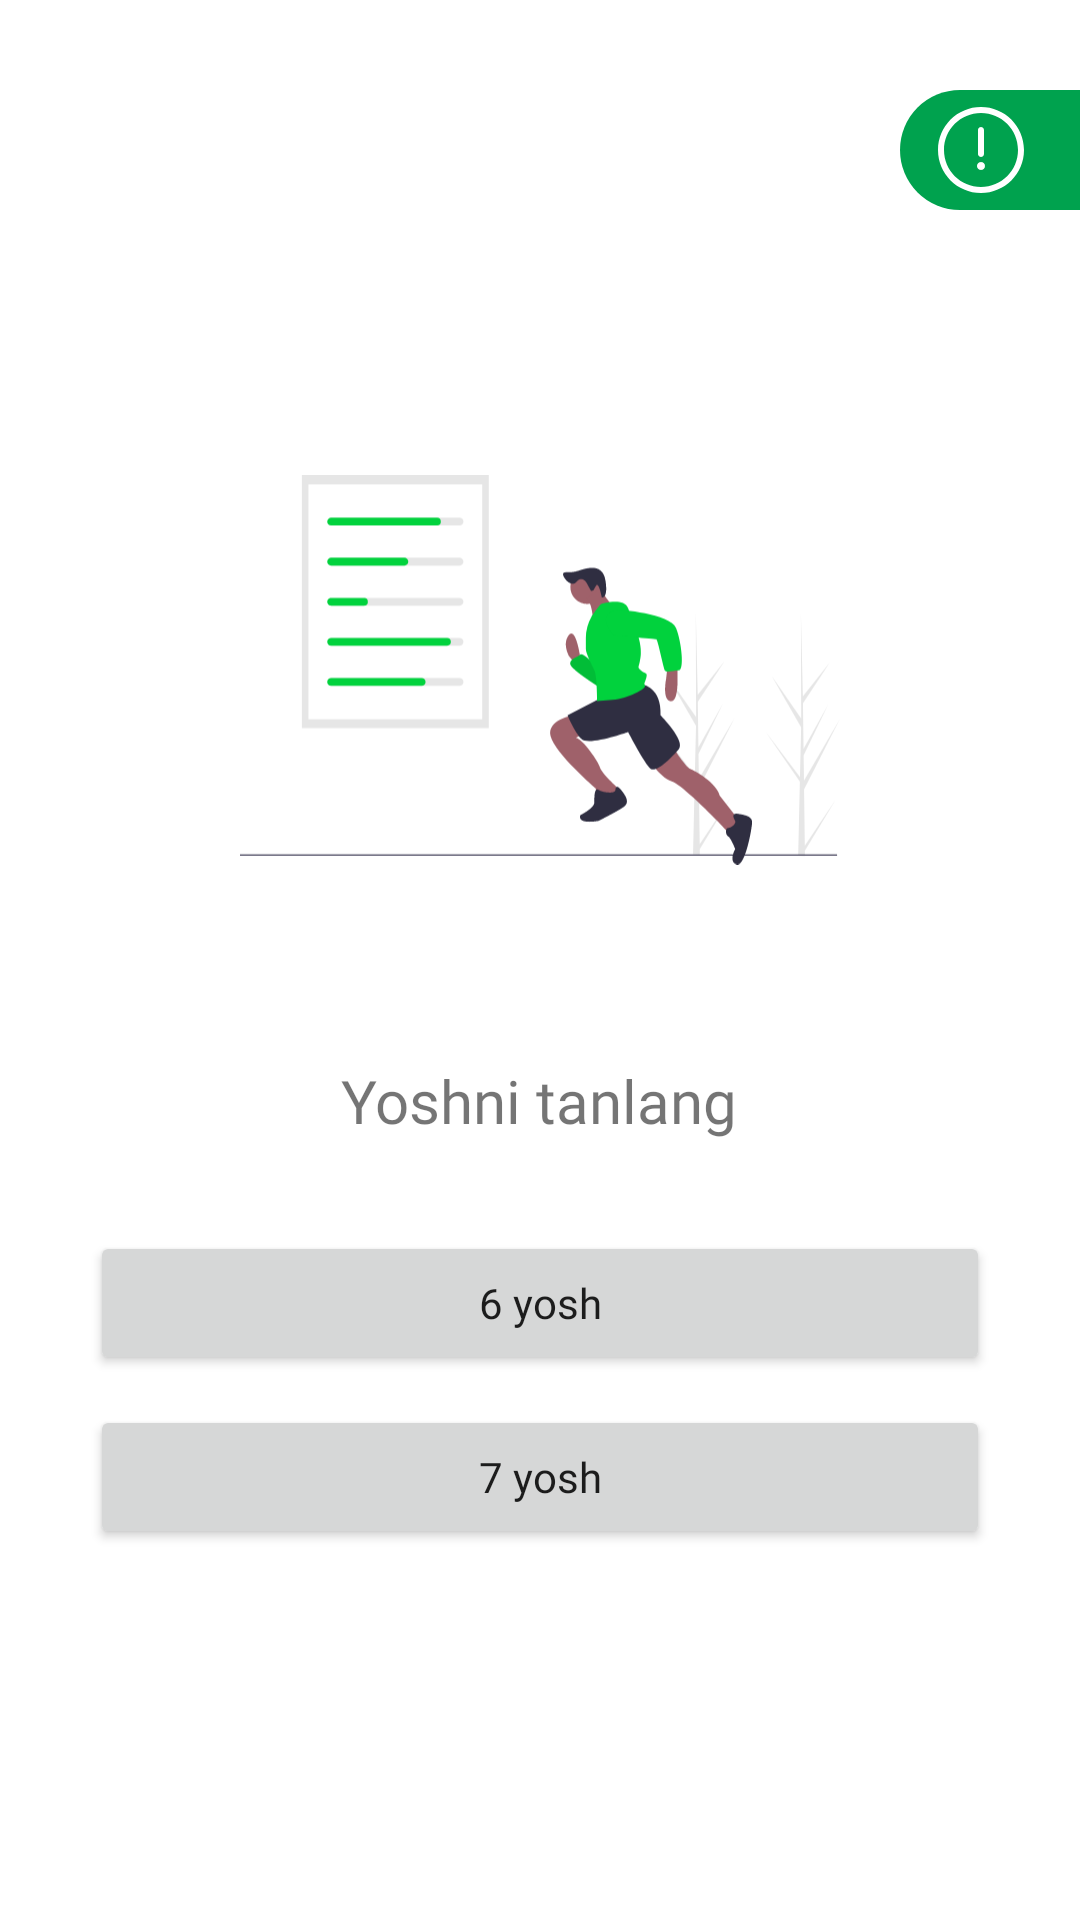

Icon bounding boxes for this 1080×1920 phone screenshot, format (x1, y1, x2, y2):
info: (906, 90, 1056, 210)
